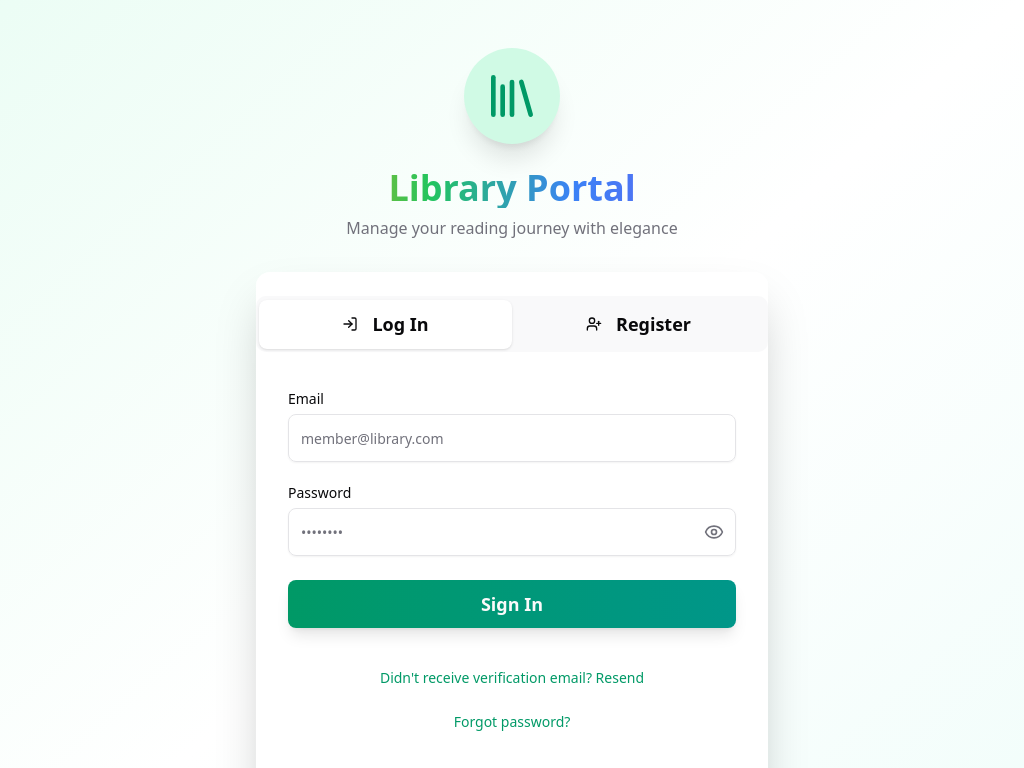
Test: User Login › should toggle password visibility
In the password field with placeholder "••••••••": (512, 532) [288, 508, 736, 556], type "Robin@01"
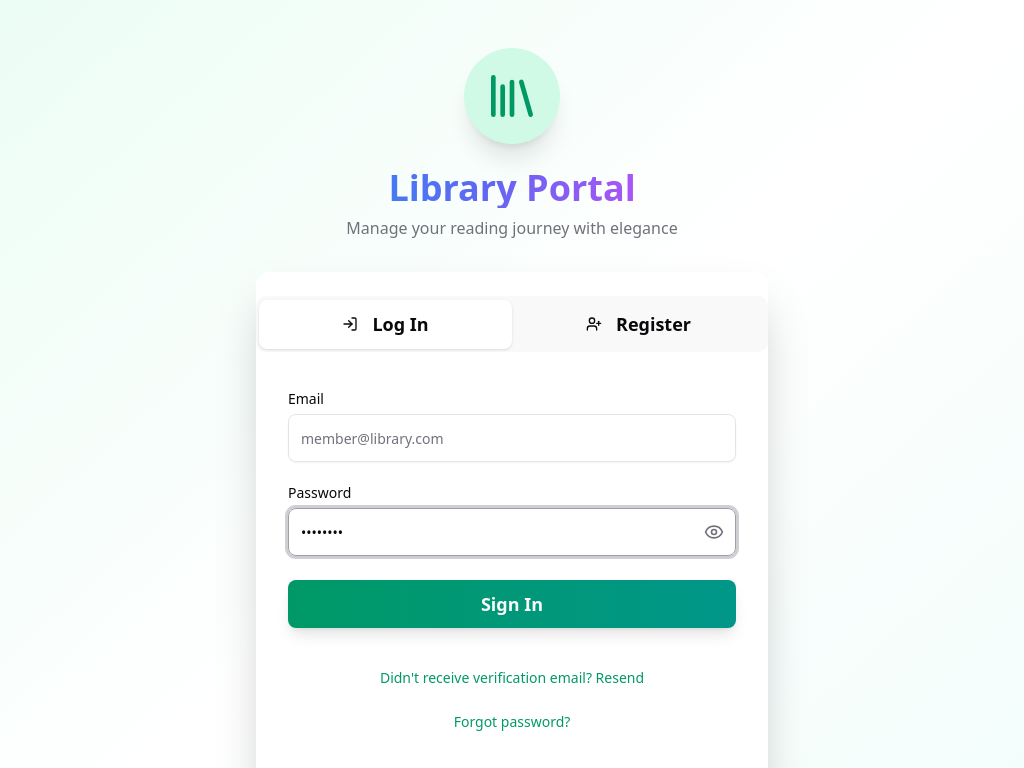
Click the eye icon (inside the relative div)
Click the 1st button: click(714, 532) [704, 522, 724, 542]
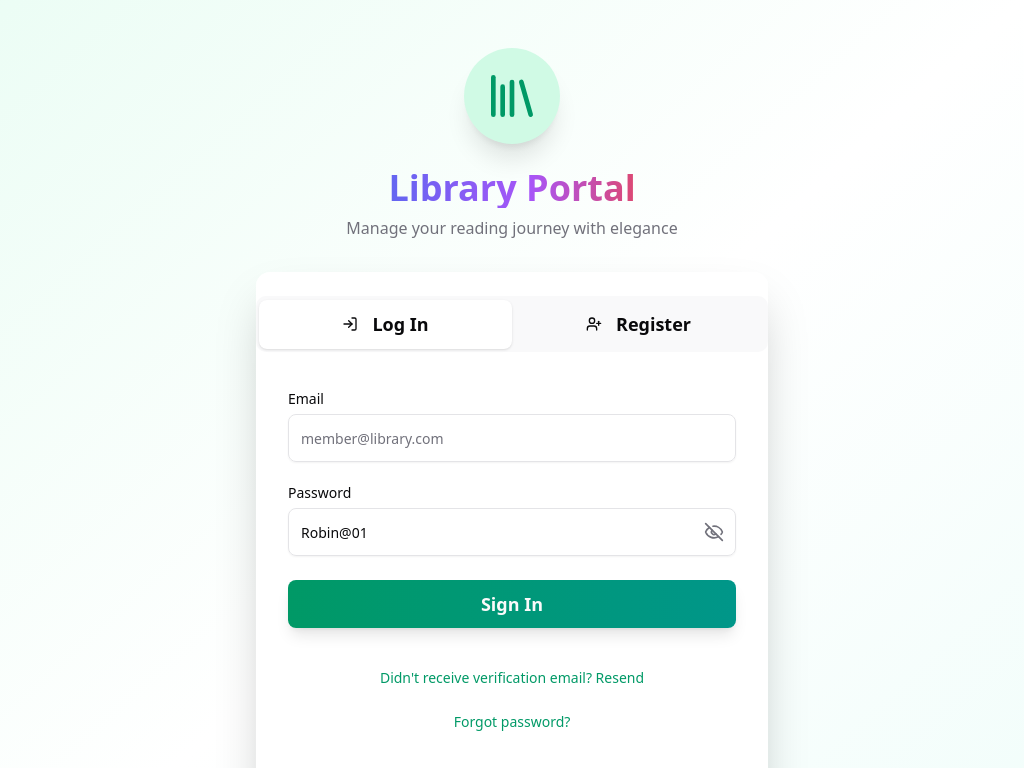
Now the field with placeholder "••••••••" shows its text, box [288, 508, 736, 556]
